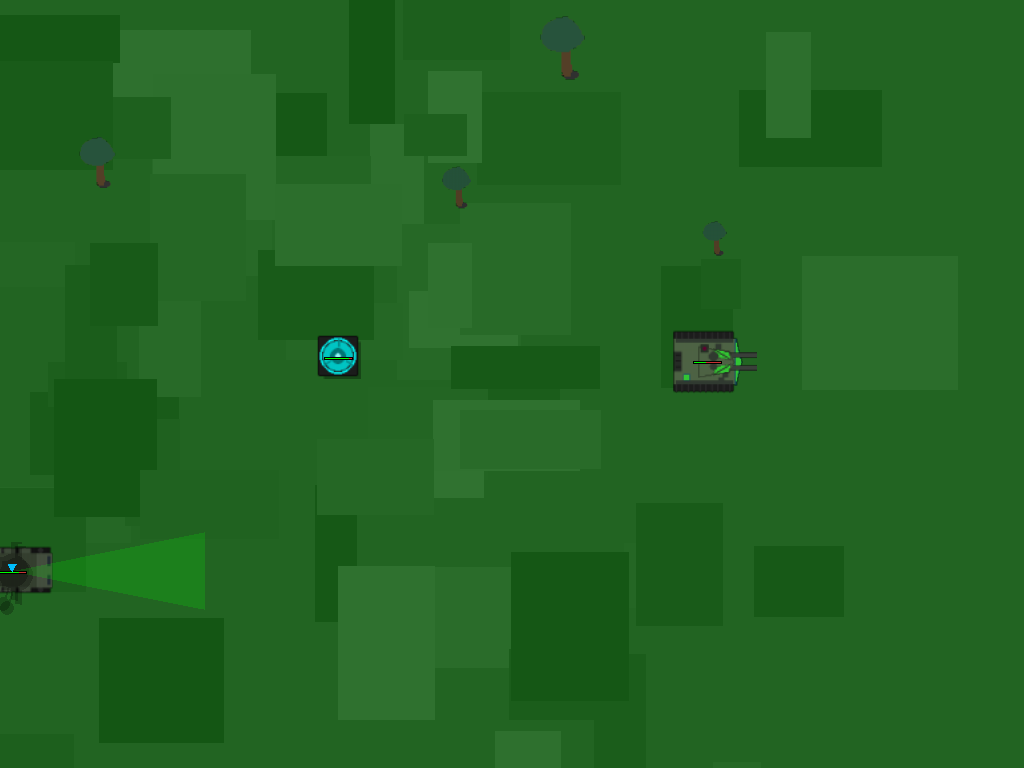AttackPlane_chn: (307, 325, 368, 386)
MiningRig: (674, 327, 740, 393)
RadarBuilding: (0, 525, 90, 615)
